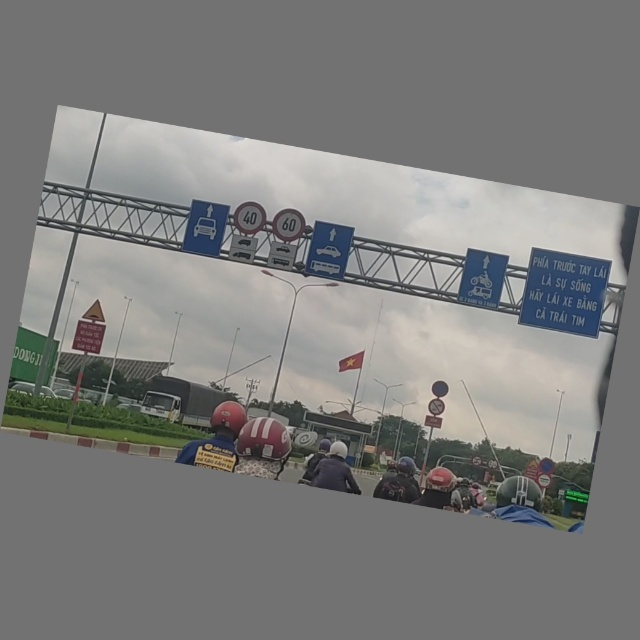P.107: (486, 460, 500, 472), (471, 456, 482, 467)
P.111: (428, 399, 446, 418)
P.127*40: (231, 199, 269, 238)
P.127*60: (270, 206, 308, 245)
P.129: (536, 474, 553, 491)
P.130: (430, 380, 450, 400)
P.131a: (539, 459, 555, 475)
W.221b: (82, 298, 110, 324), (528, 458, 541, 471)
